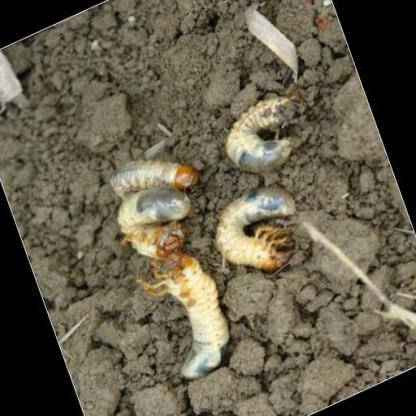root grubs: (218, 188, 297, 271), (107, 162, 199, 197)
